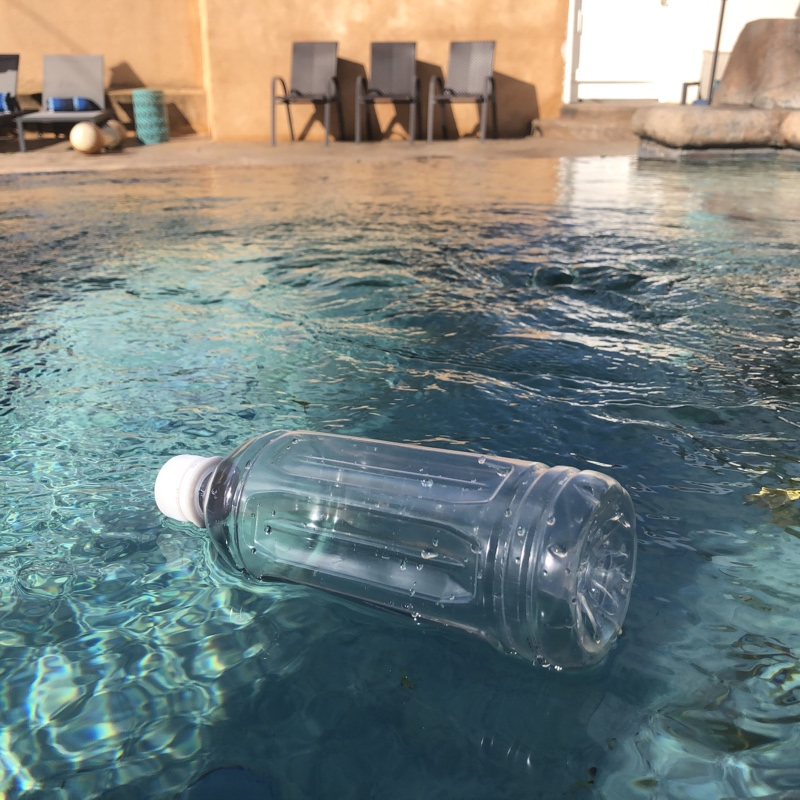Plastic Bottle: (146, 425, 642, 678)
